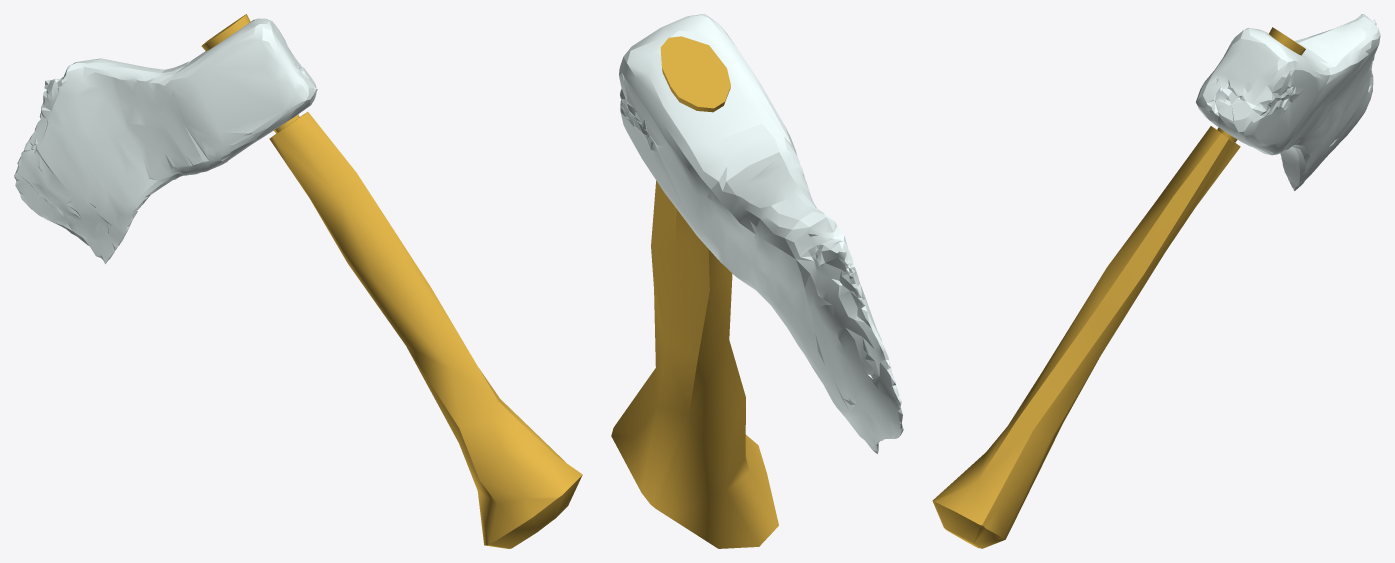
File: axe-iron-89.glb
The picture shows the model from 3 angles, left to right: view 1: azimuth 30°, elevation 25°; view 2: azimuth 150°, elevation 25°; view 3: azimuth 270°, elevation 25°; orthographic projection. The views are drawn at different scales.
Parts seen in each view (by area): view 1: iron-axe-head, iron-axe; view 2: iron-axe-head, iron-axe; view 3: iron-axe, iron-axe-head.
Boxes of the visible parts, x1,y1,x2,y2 form: iron-axe-head: (14, 18, 317, 263); iron-axe: (201, 14, 582, 548); iron-axe-head: (619, 14, 903, 453); iron-axe: (611, 36, 778, 548); iron-axe: (932, 27, 1305, 548); iron-axe-head: (1195, 14, 1380, 190).
Bounding box in the file's own units: 0.7389 × 0.865 × 0.7616.
